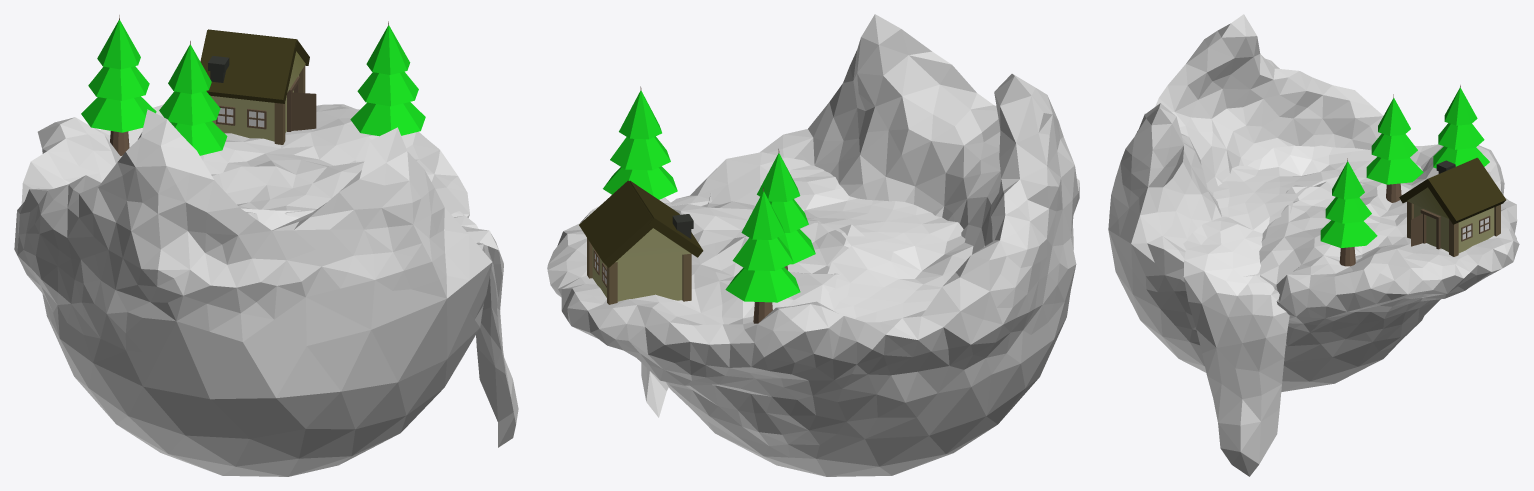
File: island.fbx
3 views of the same model, side by side, from view 1: azimuth 30°, elevation 25°; view 2: azimuth 150°, elevation 25°; view 3: azimuth 270°, elevation 25° (orthographic). The views are drawn at different scales.
Parts seen in each view (by area): view 1: Icosphere, Plane, Cube.002, Cone.005, Cone.002, Cone.004, Cube, Circle, Cube.004; view 2: Icosphere, Plane, Cube.002, Cone.002, Cone.005, Cube, Cone.004, Cube.004; view 3: Icosphere, Plane, Cube.002, Cone.004, Cone.005, Cone.002, Cube, Cube.004.
Part boxes in pixels (x1,y1,x2,y2): Icosphere: (14,104,492,476); Plane: (241,208,518,447); Cube.002: (200,29,309,103); Cone.005: (350,25,425,136); Cone.002: (81,20,156,132); Cone.004: (159,45,227,155); Cube: (210,51,305,141); Circle: (291,92,316,130); Cube.004: (274,65,305,144); Icosphere: (547,14,1079,476); Plane: (641,152,973,417); Cube.002: (579,180,703,267); Cone.002: (725,191,800,302); Cone.005: (603,90,677,199); Cube: (592,228,690,301); Cone.004: (757,153,815,264); Cube.004: (587,238,691,304); Icosphere: (1108,14,1519,391); Plane: (1183,145,1422,476); Cube.002: (1399,157,1506,224); Cone.004: (1366,98,1423,184); Cone.005: (1320,161,1377,247); Cone.002: (1433,87,1489,168); Cube: (1407,187,1494,253); Cube.004: (1407,201,1500,256).
Size of the model in its own units: 2207 by 2090 by 2362.
